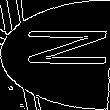N_E: (4, 35, 106, 75)
